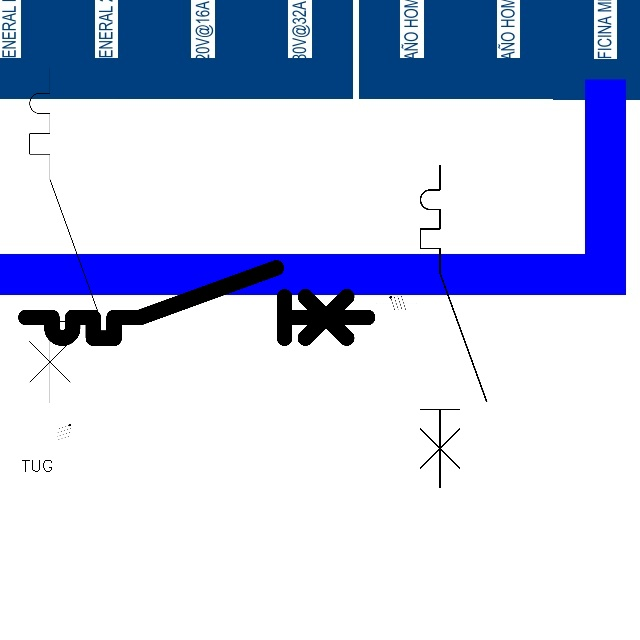interruptor_termomagnetico: (17, 259, 376, 347), (21, 59, 107, 411), (412, 157, 495, 496)
